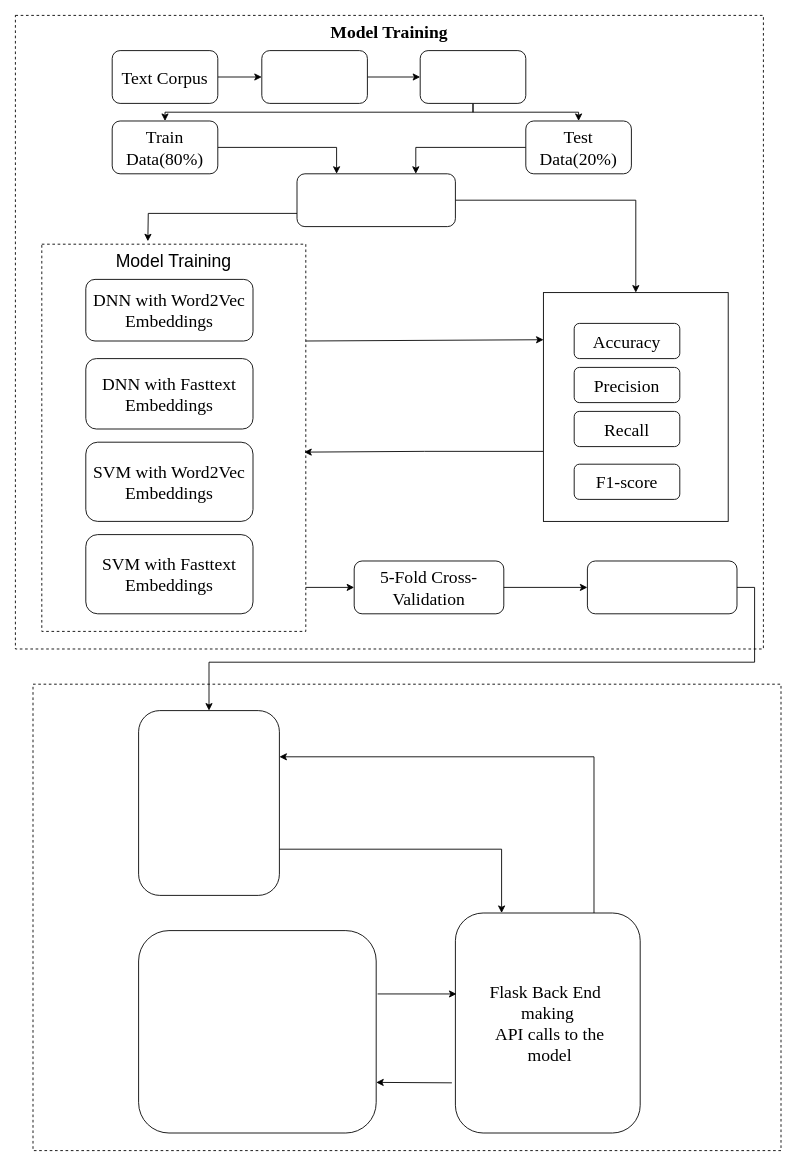
Some shapes in this 796 by 1166 pixel diagram are drawn without their labels. The shapes that lost their labels are listed below. From the top down, each one's box as (x1, y1, x2, y2) in pixels, then its label:
(261, 50, 367, 103): Data Balancing
(419, 50, 526, 103): Data pre-processing
(296, 173, 455, 227): NLTK Word Tokenizer
(543, 292, 728, 521): Evaluate
(587, 560, 737, 614): Model saved
(138, 710, 279, 895): Python package providing API for model Inference
(32, 683, 781, 1151): Model Inference and Demo
(138, 930, 376, 1133): Nextjs Front End for users to infer the model through a web application
